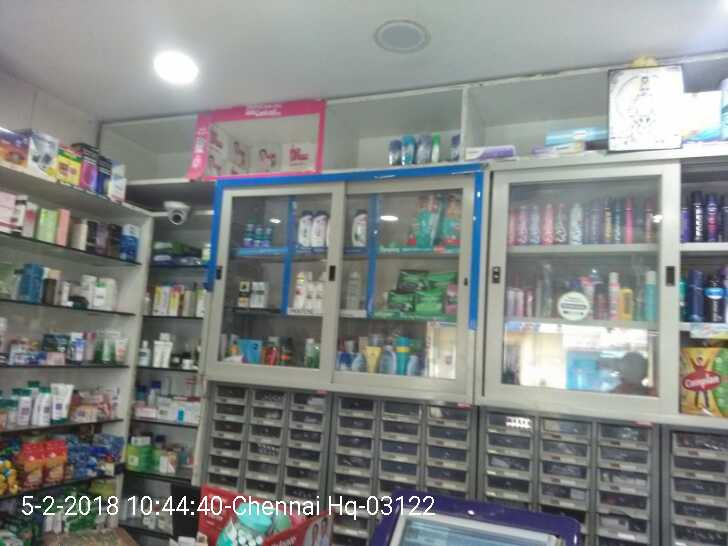vicks: (239, 214, 280, 252)
